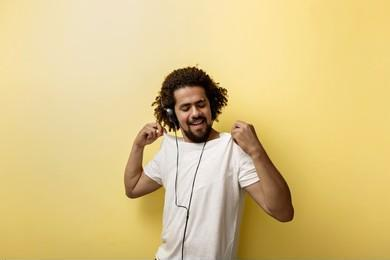face: (173, 92, 217, 143)
